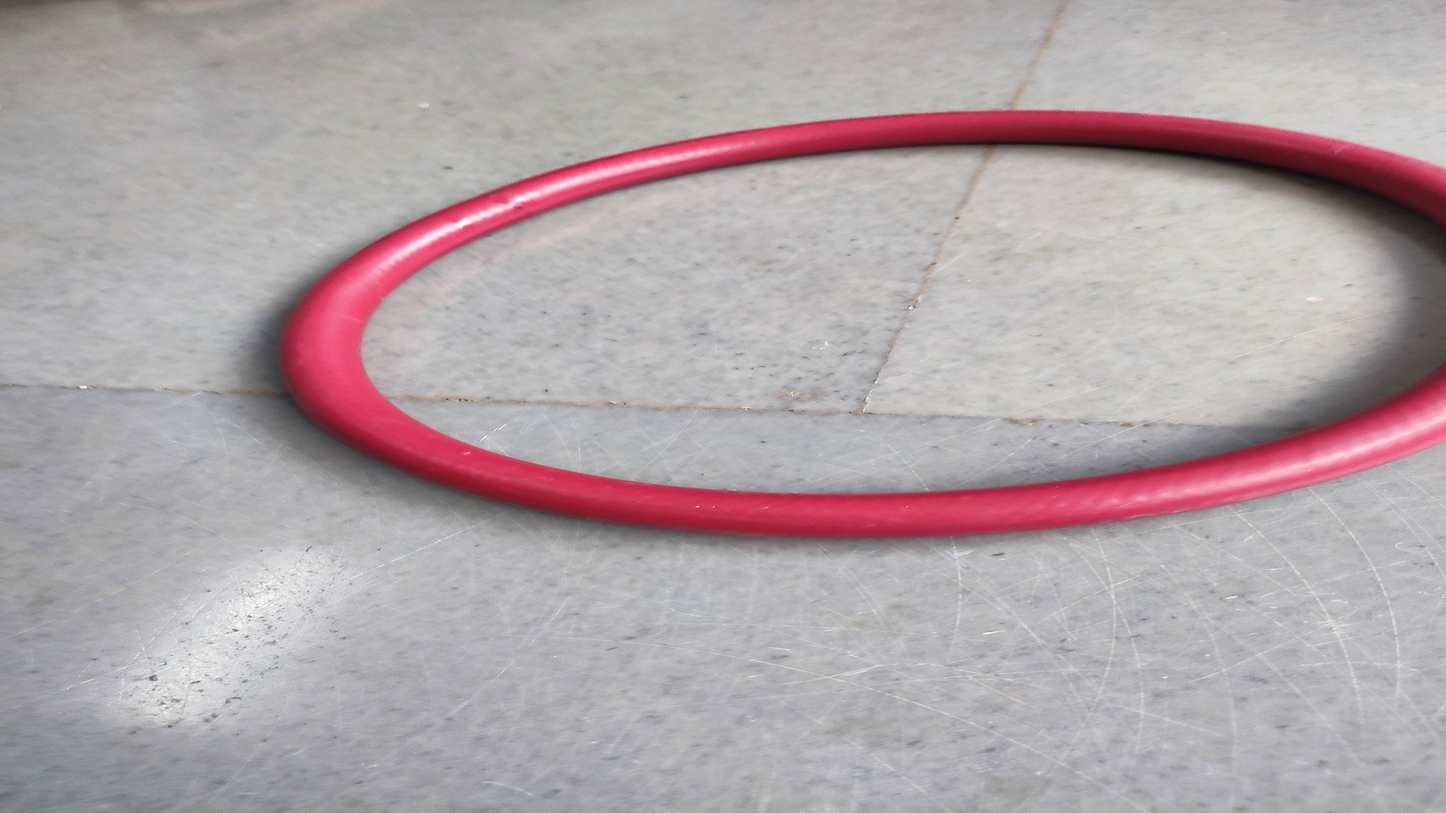Red ring: (284, 108, 1446, 534)
